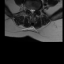CCS_normal: (31, 7, 33, 15)
LFS_severe_stenosis: (35, 7, 37, 13)
LLS_stenosis: (33, 7, 35, 13)
RFS_stenosis: (28, 7, 30, 13)
RLS_normal: (30, 7, 31, 13)
